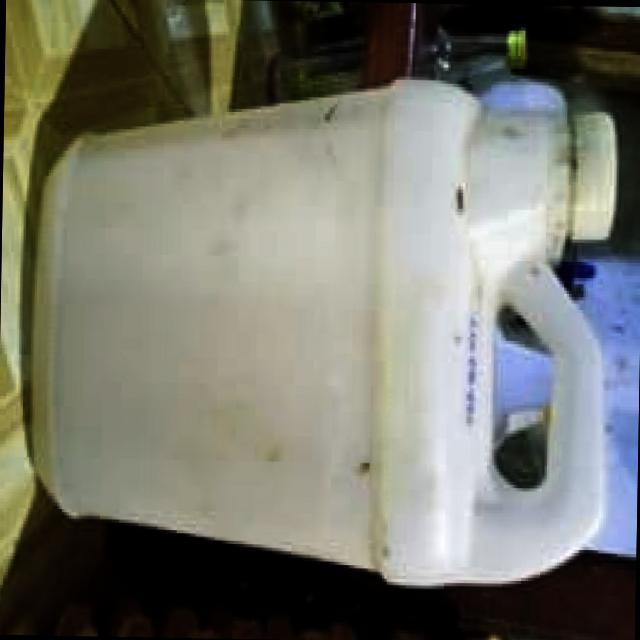HDPE Plastic: (24, 74, 620, 590)
